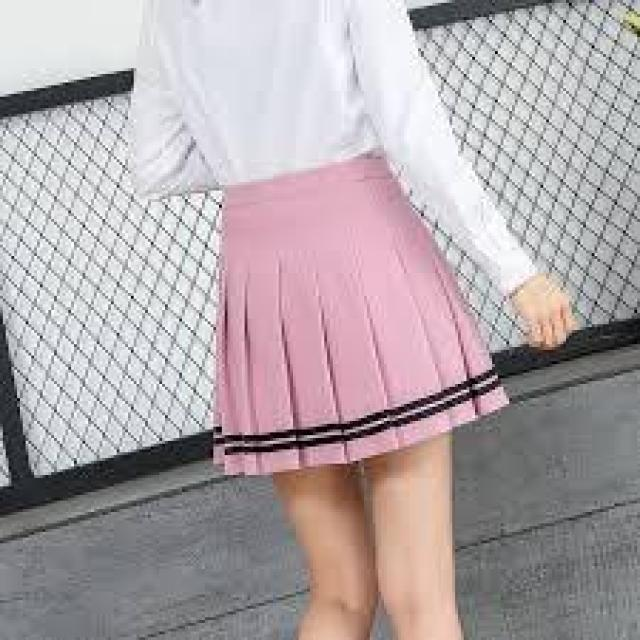skirt: (216, 165, 504, 478)
